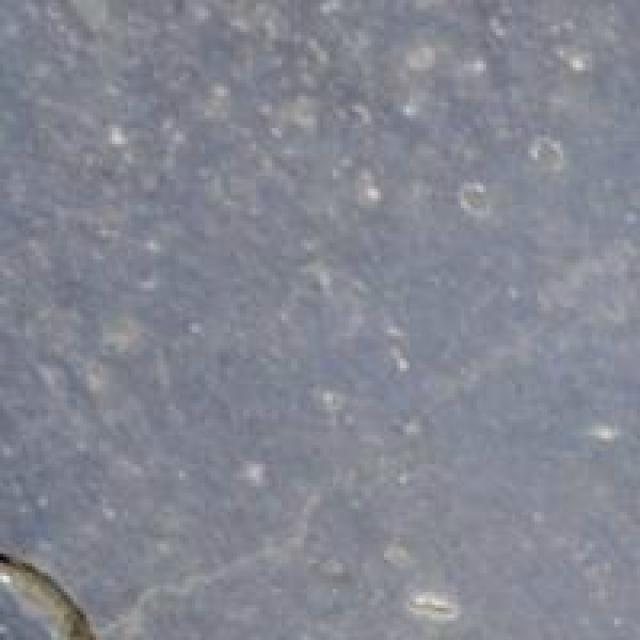crack: (0, 514, 106, 640)
